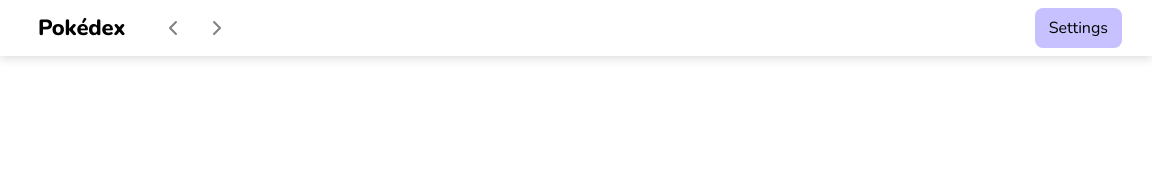
Test: TopNavbar › hides the drop down menu following a click on the settings button
The width and height of the screenshot is (1152, 181).
Click the button "Settings".
click(1078, 28)  # box 1035,8 -> 1122,48
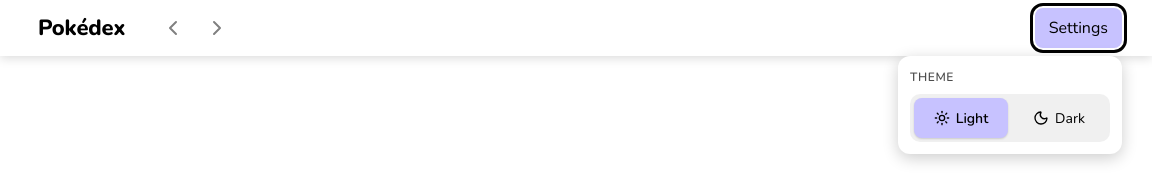
Click the button "Settings".
click(1078, 28)  # box 1035,8 -> 1122,48
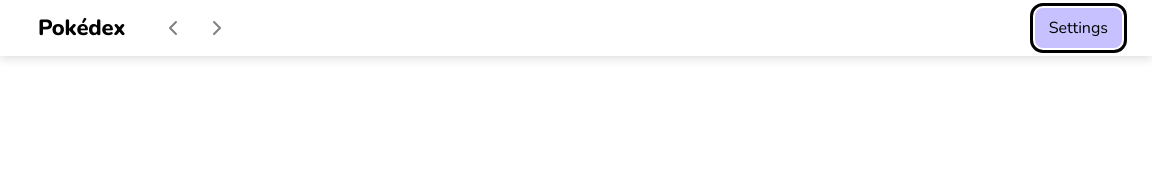
Result: the element with test id "drop-down" is gone
